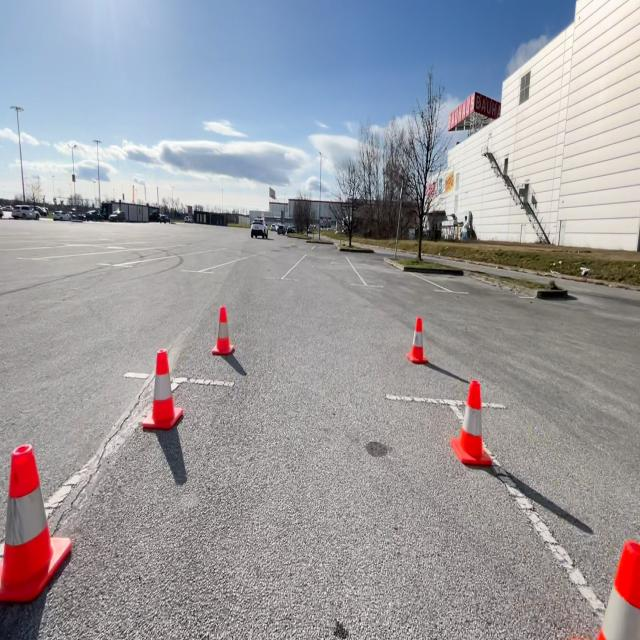orange_cone: (0, 440, 70, 604), (580, 532, 640, 640), (450, 378, 494, 468), (140, 346, 183, 430), (210, 304, 235, 356), (405, 314, 428, 364)
